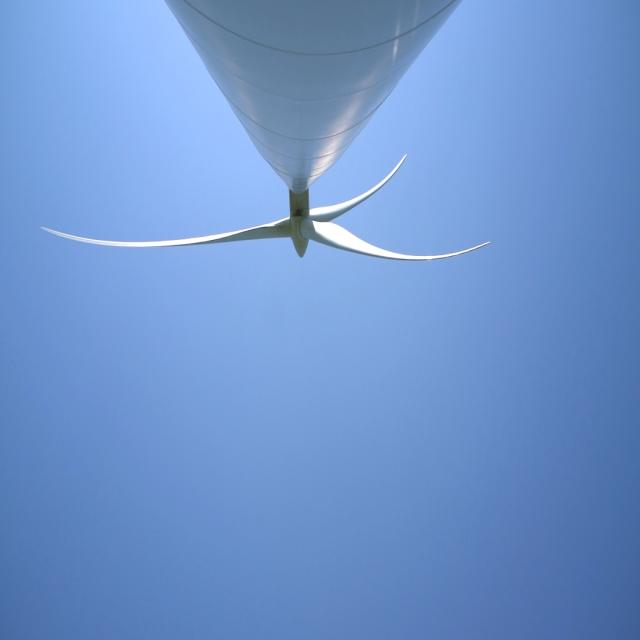blade 1: (325, 220, 557, 298)
blade 2: (346, 156, 402, 216)
blade 3: (10, 218, 272, 288)
